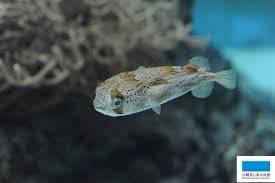hugu: (93, 10, 225, 142)
